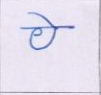e_matra: (27, 12, 55, 26)
